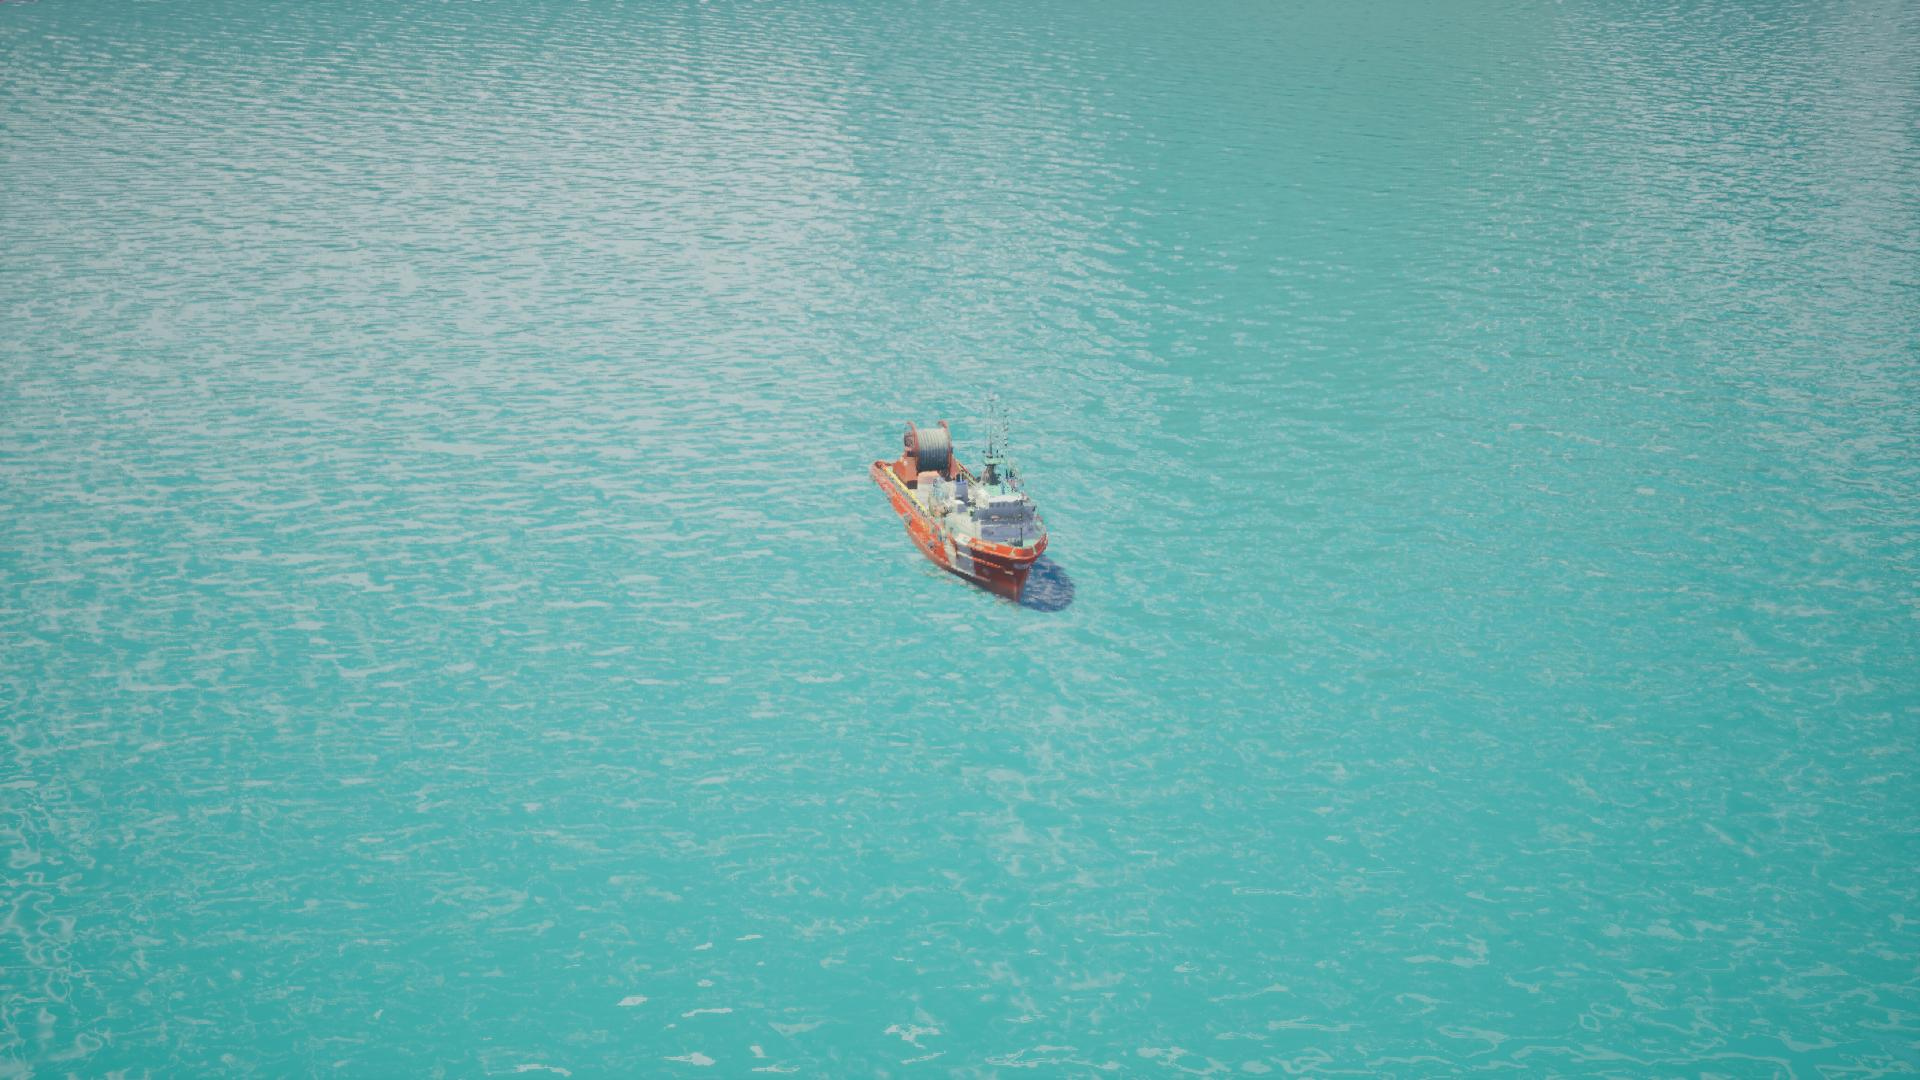Tug Boat: (876, 425, 1055, 609)
